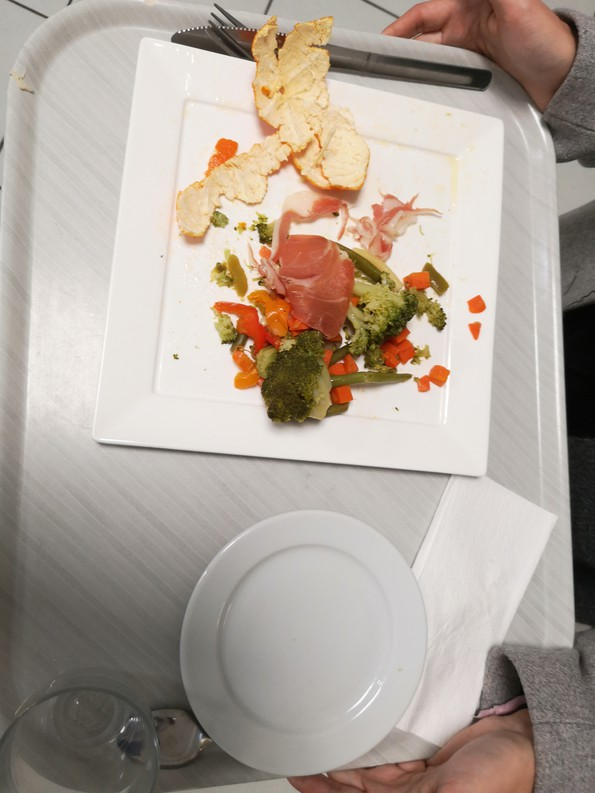cup: (1, 672, 165, 763)
cutlery: (147, 6, 497, 100)
orga: (175, 27, 377, 226), (215, 249, 279, 396), (273, 230, 358, 322), (350, 271, 427, 369), (264, 335, 341, 431)
trash: (387, 451, 562, 765)
